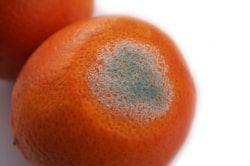damaged_grapefruit: (22, 16, 190, 166)
